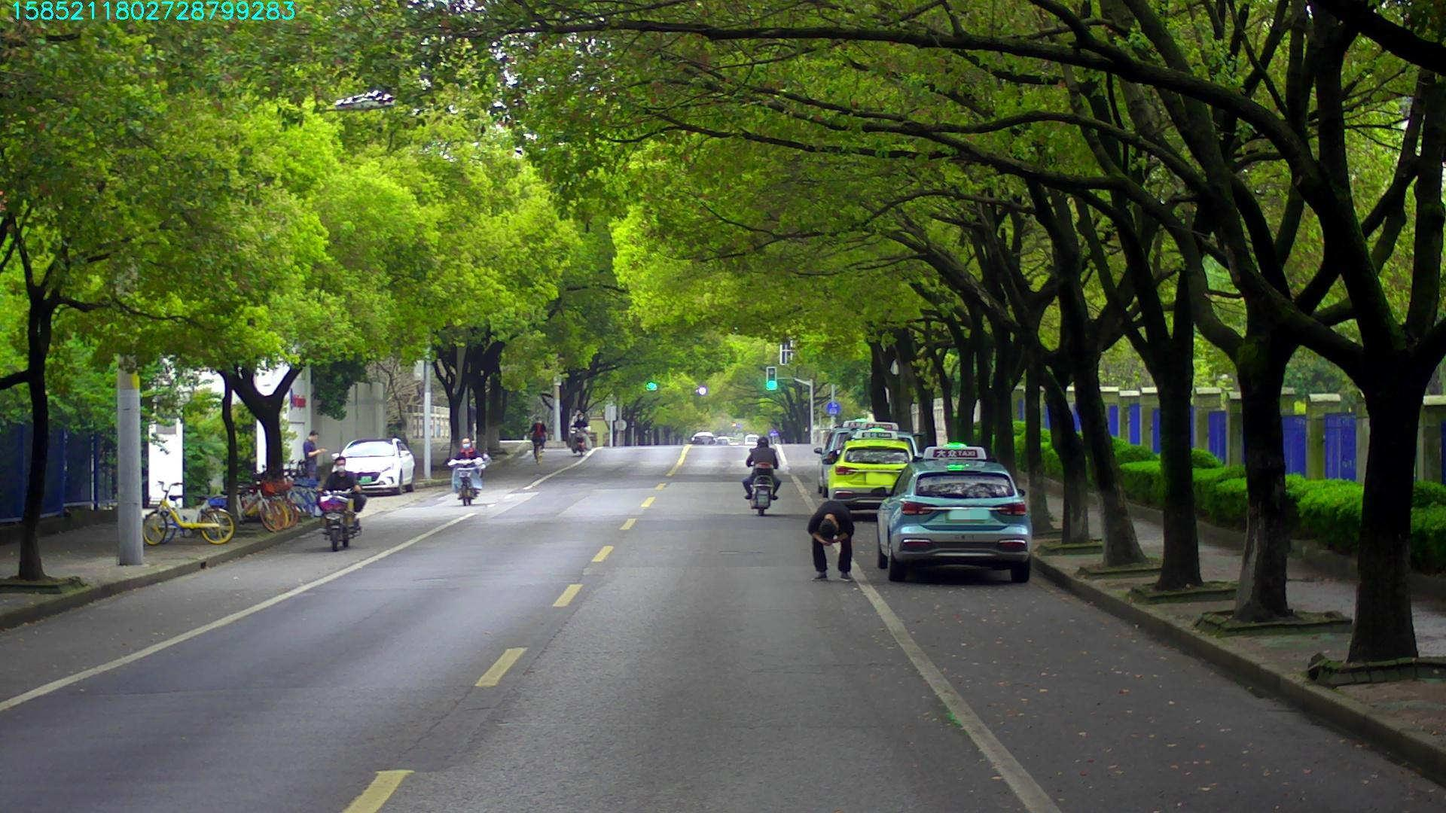green: (766, 366, 776, 390), (644, 380, 657, 390)
